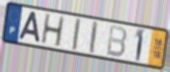1: (134, 28, 146, 64)
A: (17, 10, 41, 44)
B: (105, 23, 128, 59)
H: (40, 13, 66, 49)
I: (71, 17, 82, 52), (89, 20, 99, 56)
